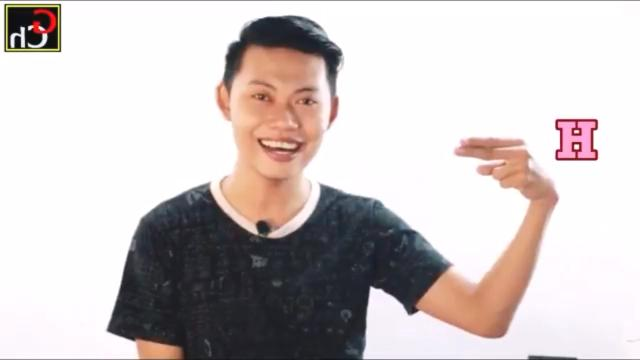H: (450, 136, 550, 198)
